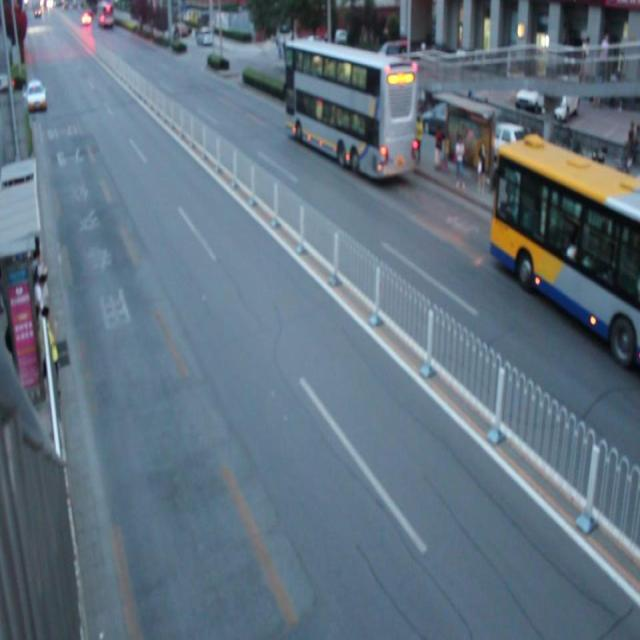van: (490, 138, 640, 356), (283, 39, 417, 177)
